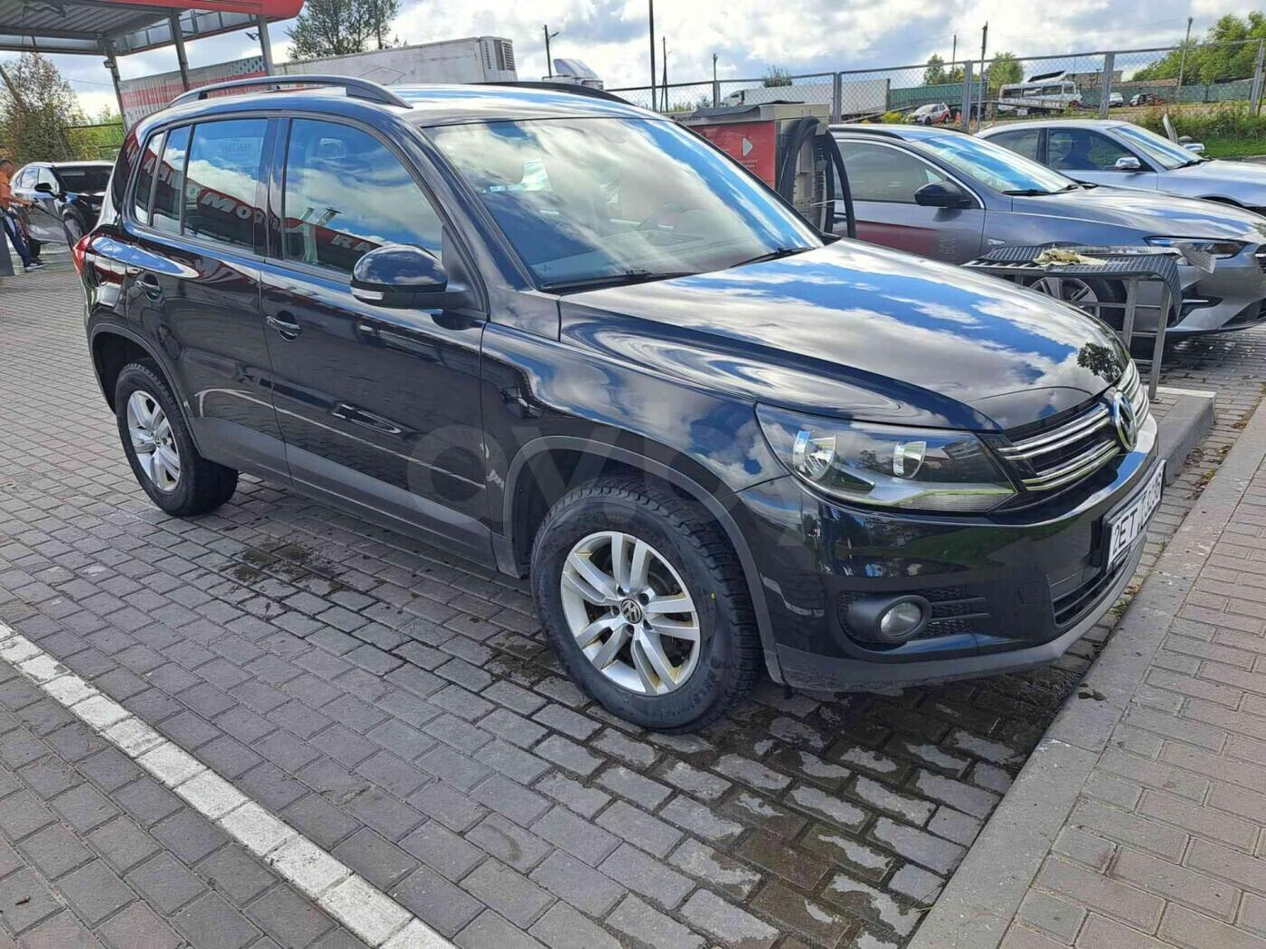Tiguan_2011-2018: (68, 79, 1173, 727)
